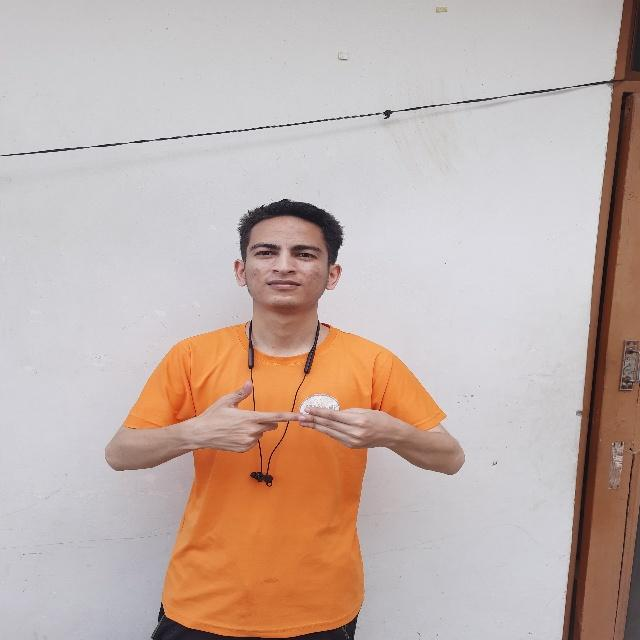Five Fathers: (182, 377, 404, 470)
